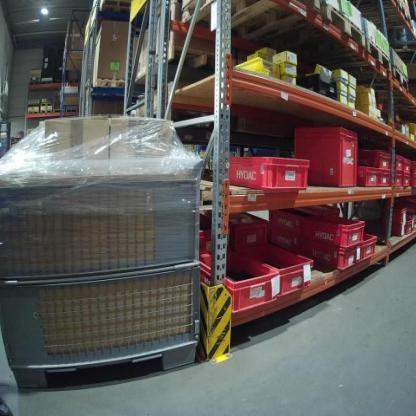pallets: (258, 0, 416, 97)
